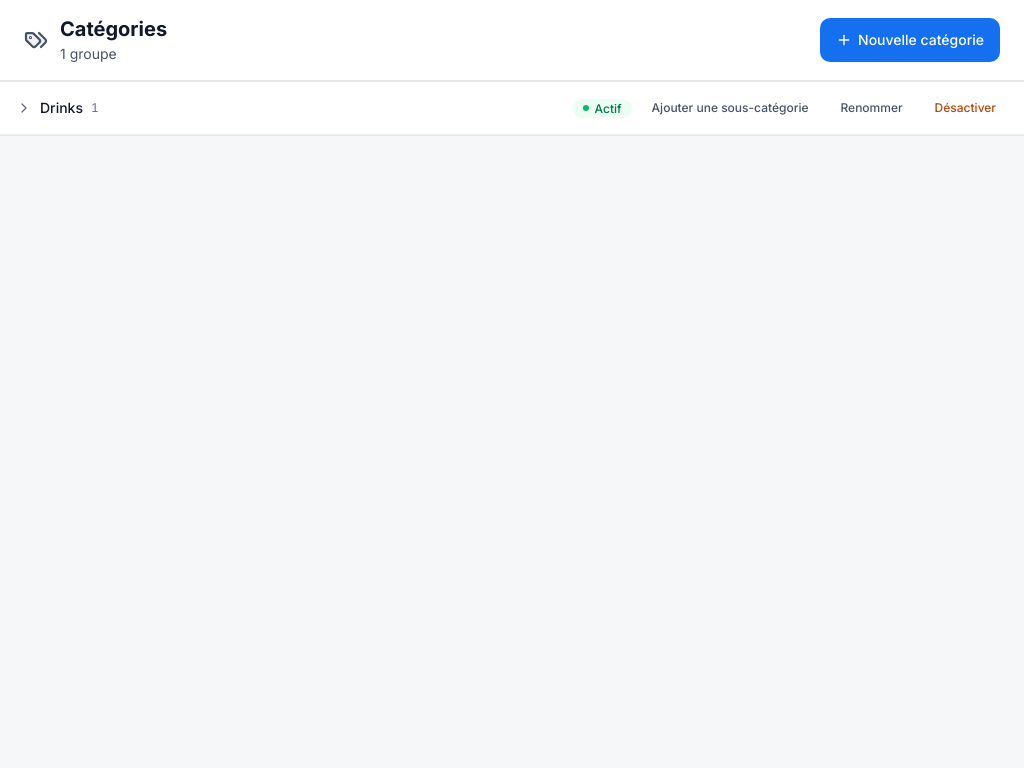
Scenario: CategoriesPage accordion › creates a top-level category without asking for a parent
The image size is (1024, 768).
What coordinates should you click on to do the following:
click the button "Nouvelle catégorie"
I would click on:
 (910, 40)
Its box is [820,18,1000,62].
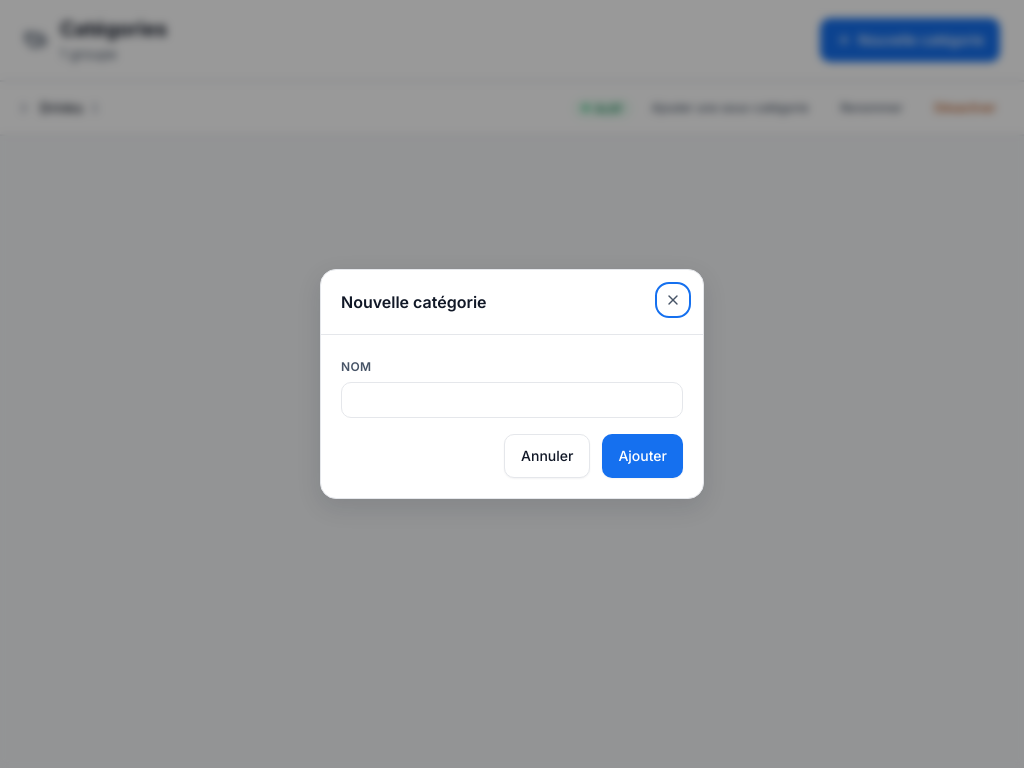
Expected: the heading "Nouvelle catégorie" is shown, [341,290,487,314]
